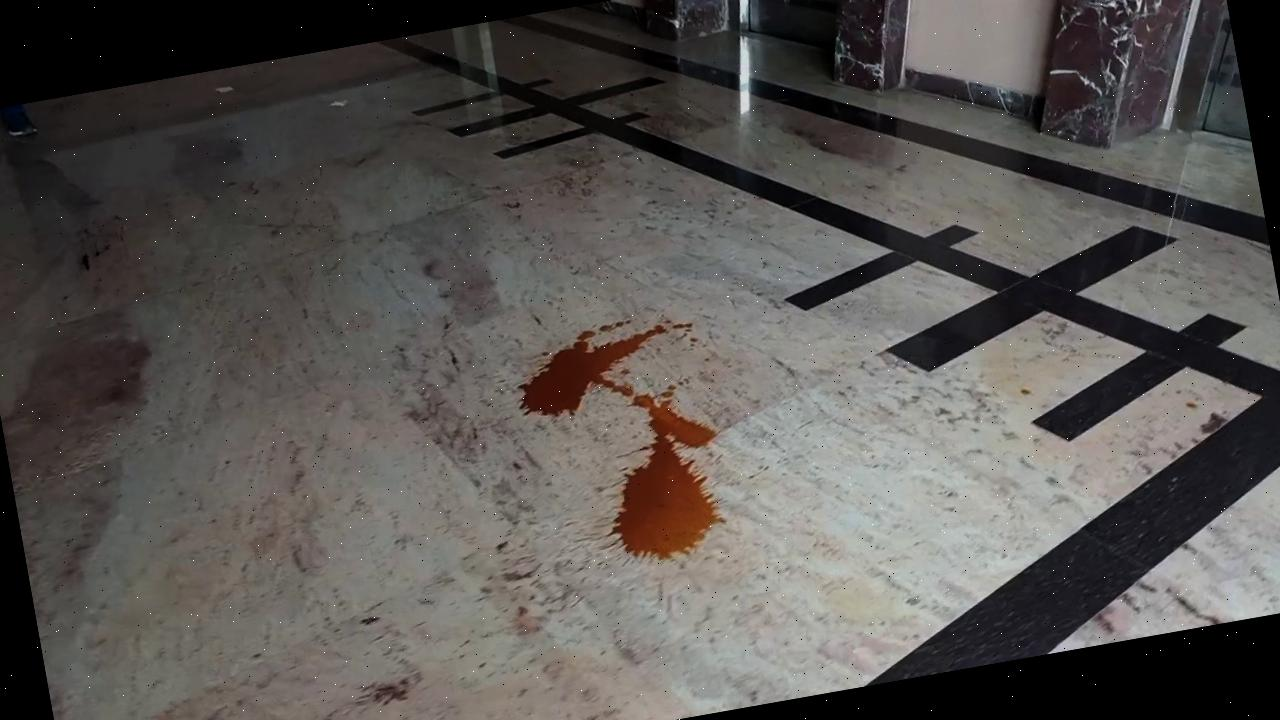dirty_floor: (518, 310, 733, 580)
